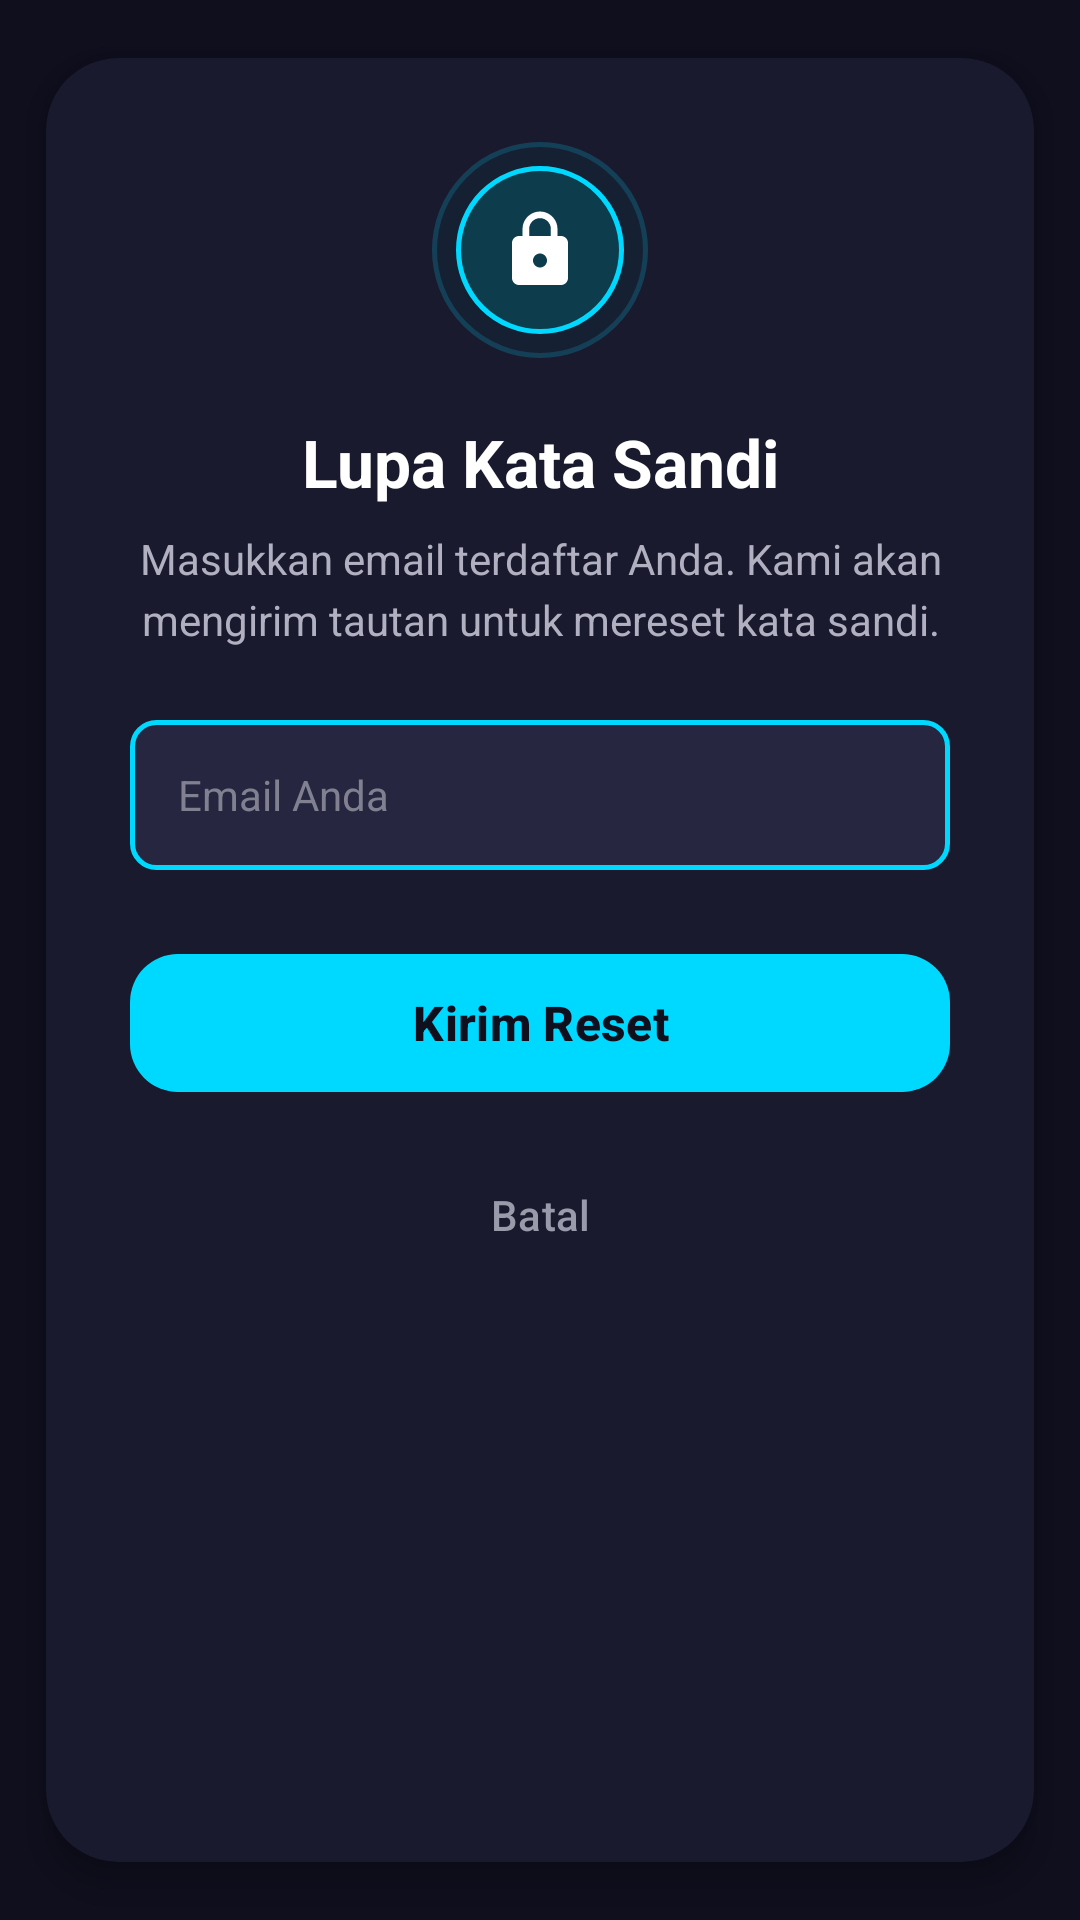

Locate icon controls on the screen. Image size 1080 × 1920, boxes as BBox(x1, y1, x2, y2).
lock: BBox(512, 211, 568, 285)
